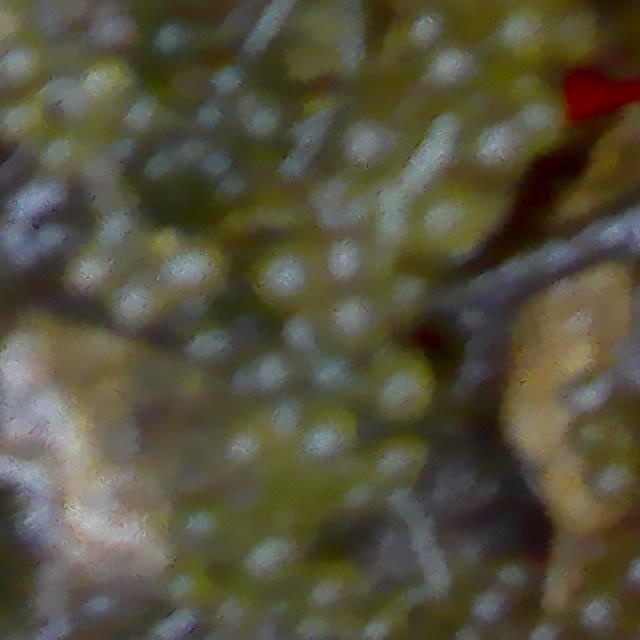SeaGrape: (414, 181, 487, 259), (253, 244, 324, 313), (371, 352, 436, 423), (289, 408, 357, 472), (87, 7, 141, 61)
